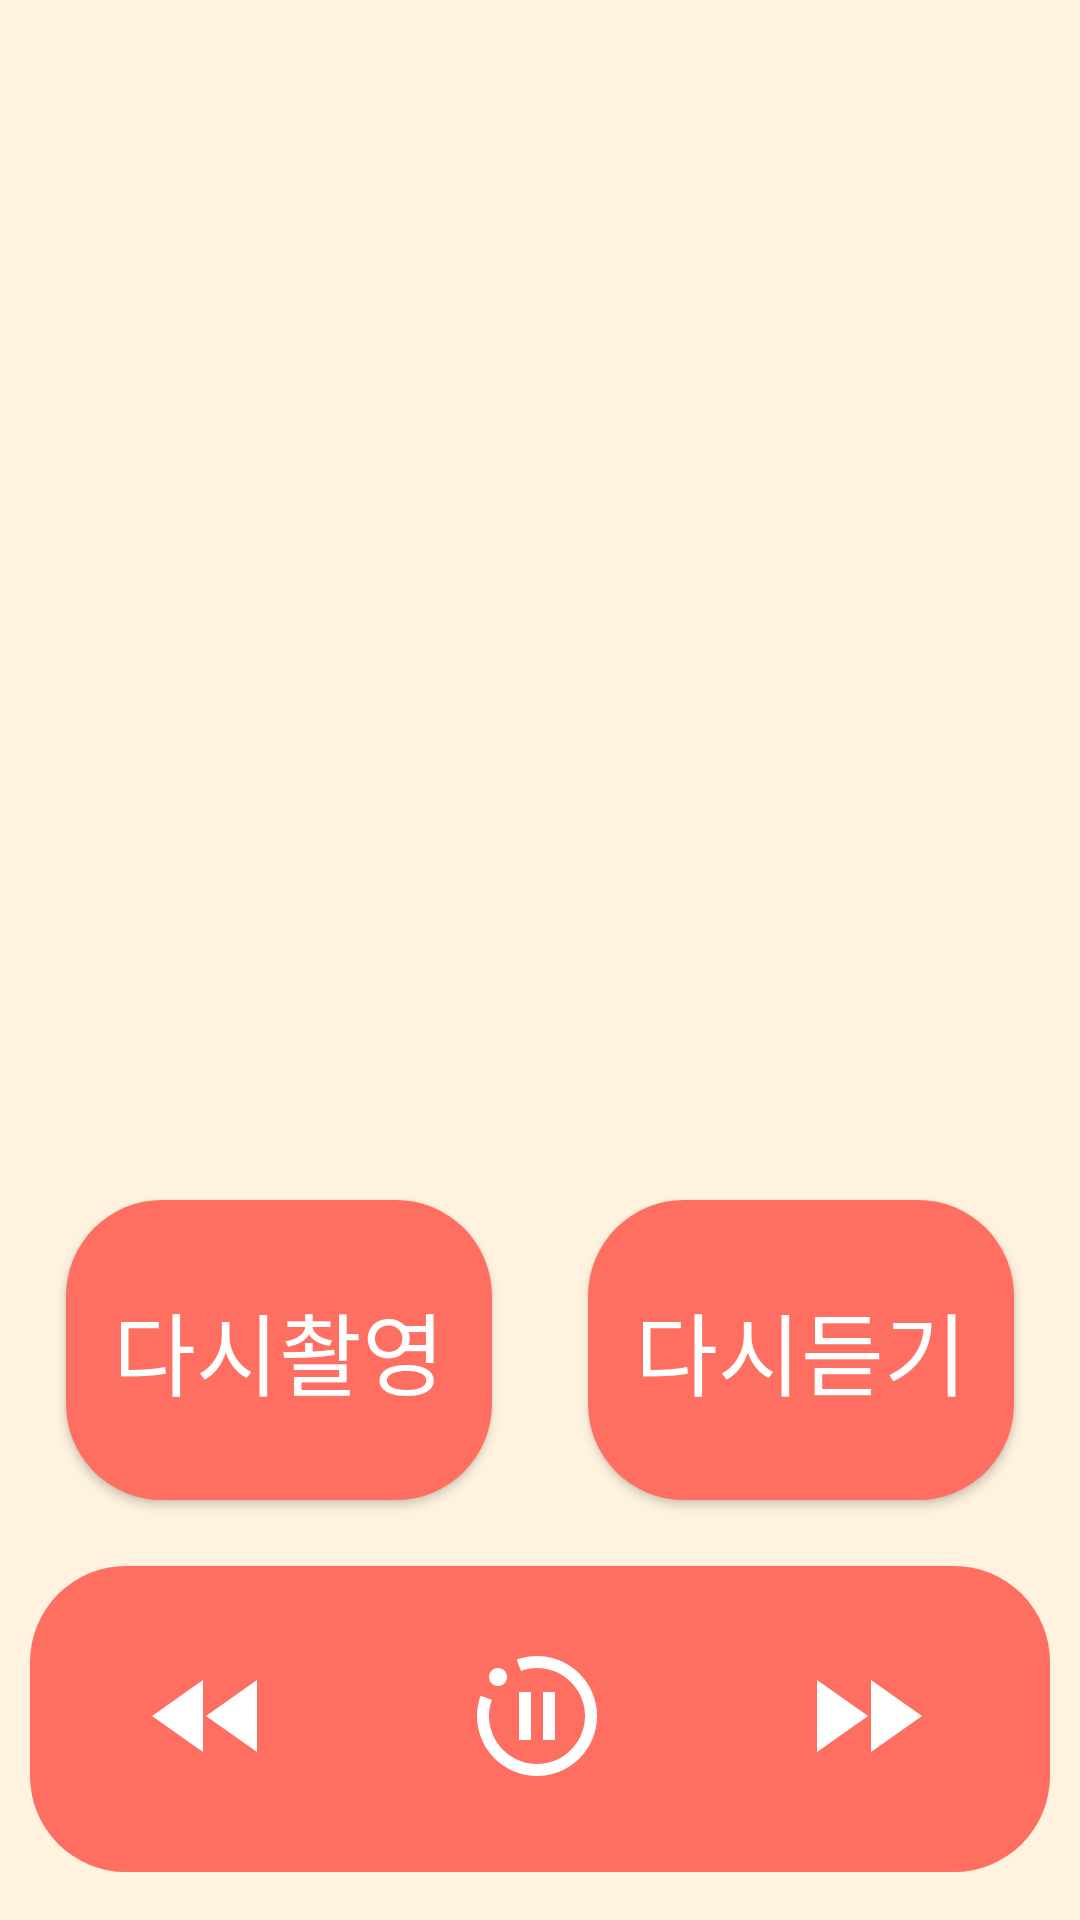

Icons on this 1080px x 1920px Android screen, each with its box as (x1, y1, x2, y2):
Fast Forward: (817, 1680, 922, 1752)
Pause: (477, 1656, 597, 1776)
Rewind: (152, 1680, 257, 1752)
